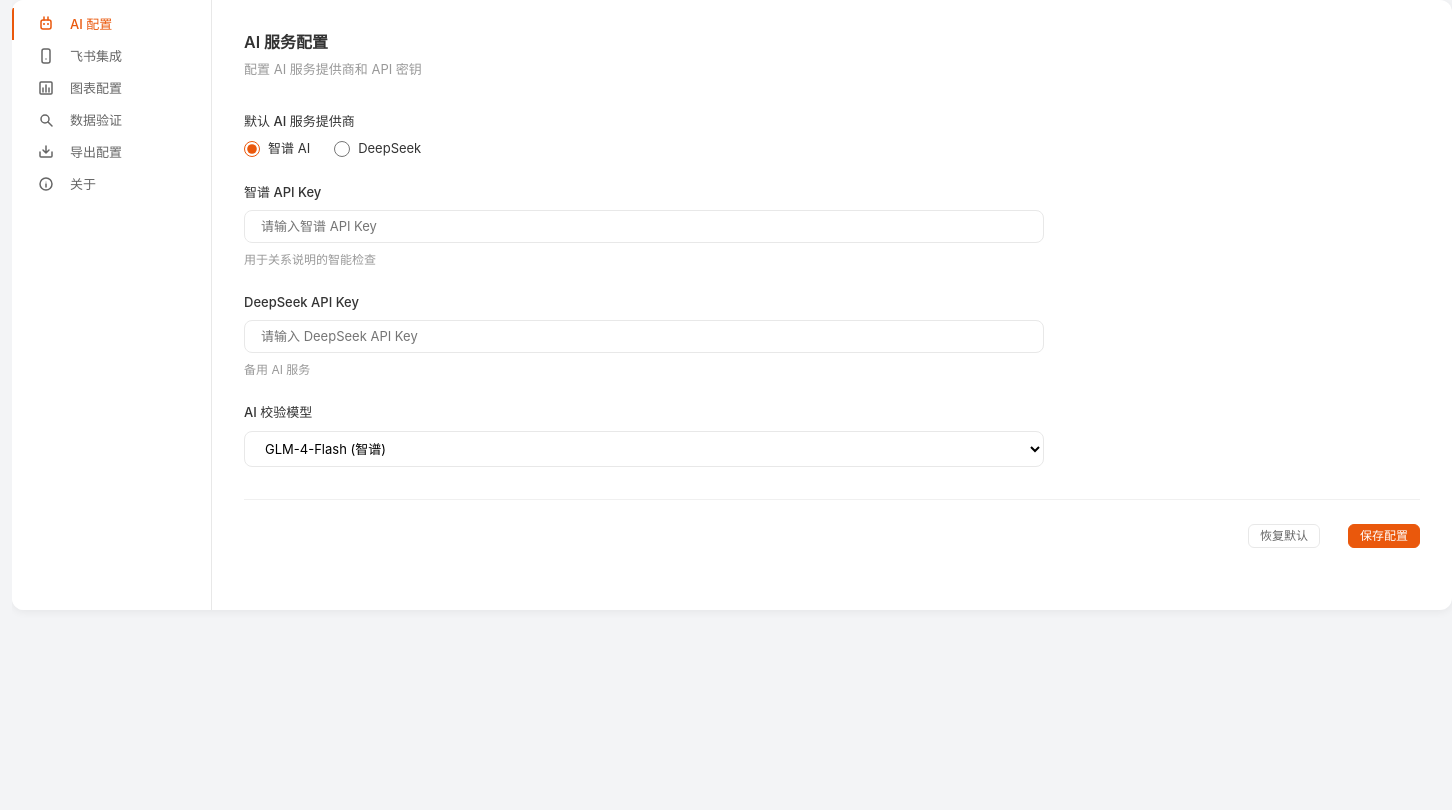
Test: SystemSettings › 菜单切换 › 点击图表配置应该显示图表设置
The image size is (1452, 810).
Click the menu item with class "ss-nav-item" showing "图表配置". click: (112, 88)
box: [12, 72, 211, 104]
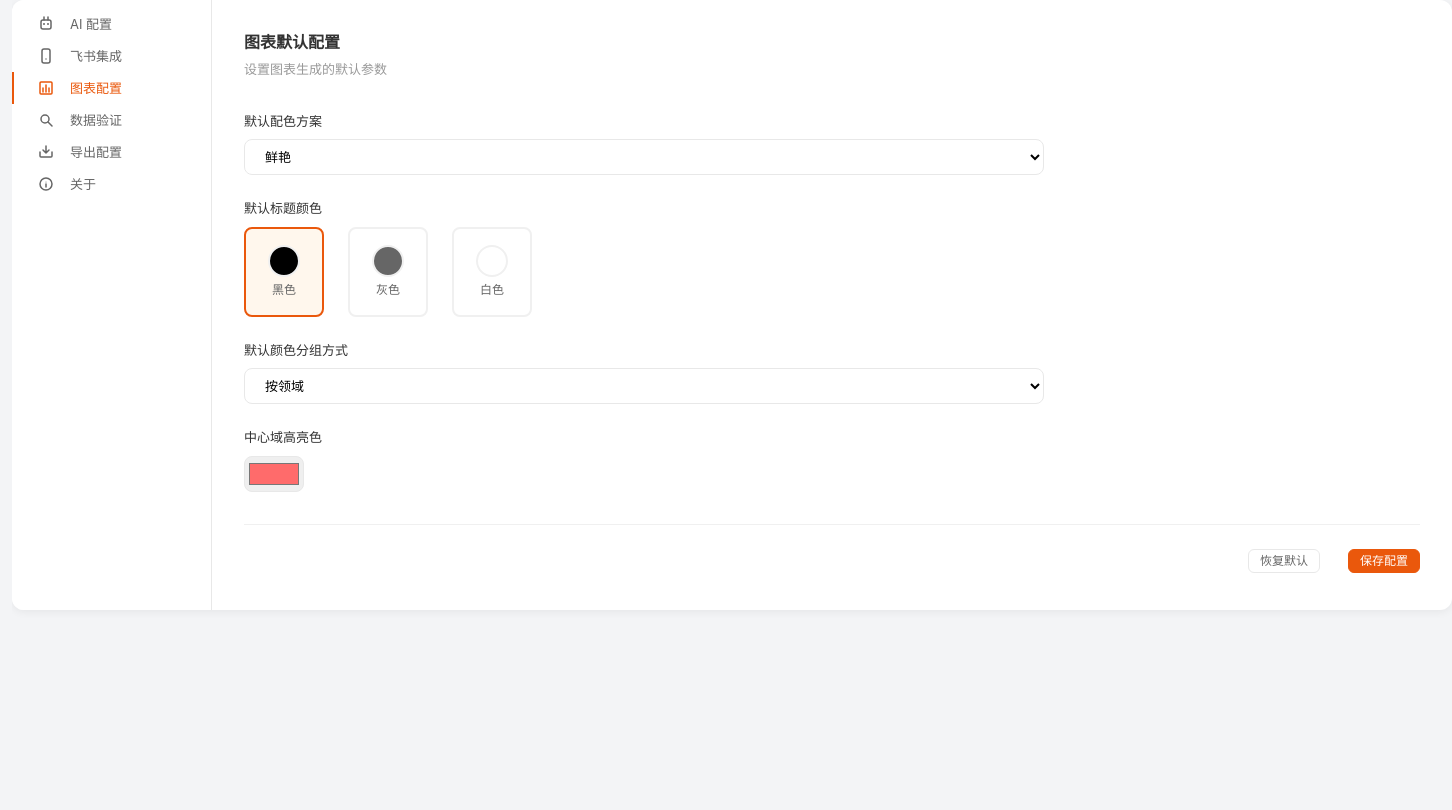
Check: the heading with class "section-title" reads "图表默认配置", box [244, 32, 340, 52]
